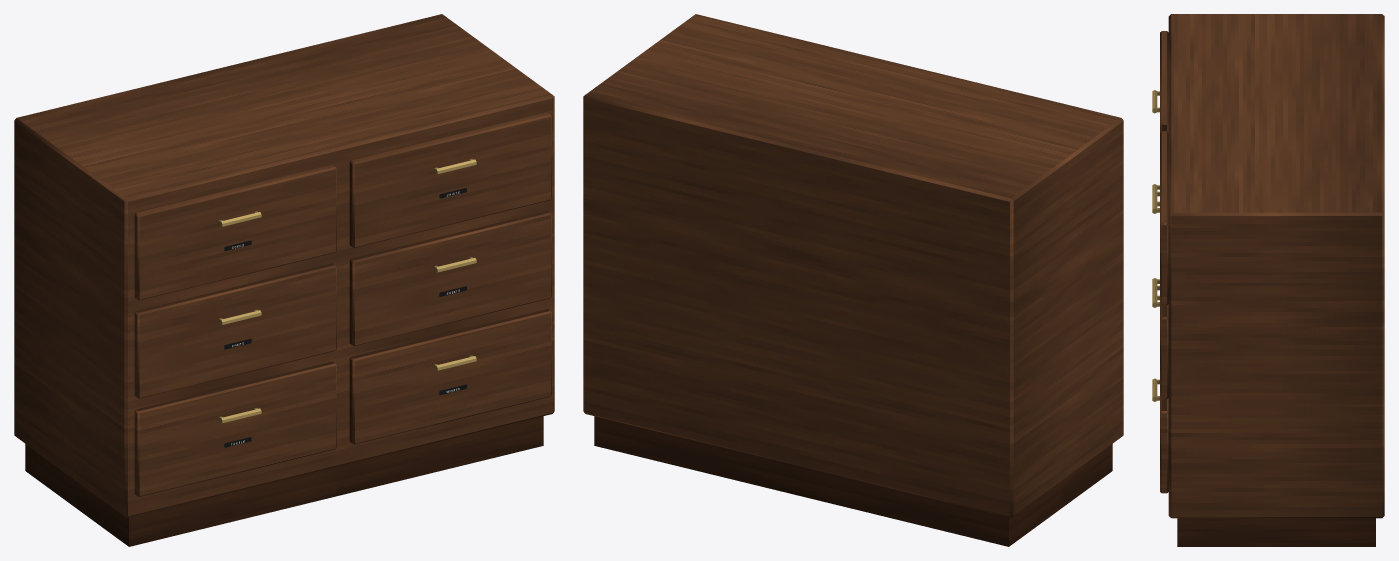
The model's file is dresser.glb.
The picture shows the model from 3 angles, left to right: view 1: azimuth 30°, elevation 25°; view 2: azimuth 150°, elevation 25°; view 3: azimuth 270°, elevation 25°; orthographic projection. The views are drawn at different scales.
Visible parts, largest first — view 1: body, decals; view 2: body; view 3: body.
Boxes of the visible parts, bbox=[...] form: body: bbox=[14, 14, 554, 546]; decals: bbox=[224, 188, 466, 447]; body: bbox=[583, 14, 1123, 546]; body: bbox=[1152, 14, 1384, 546].
Size of what is drawn, in the model's own units: 1.1 by 0.86 by 0.5381.
4 materials, 3 textured.
